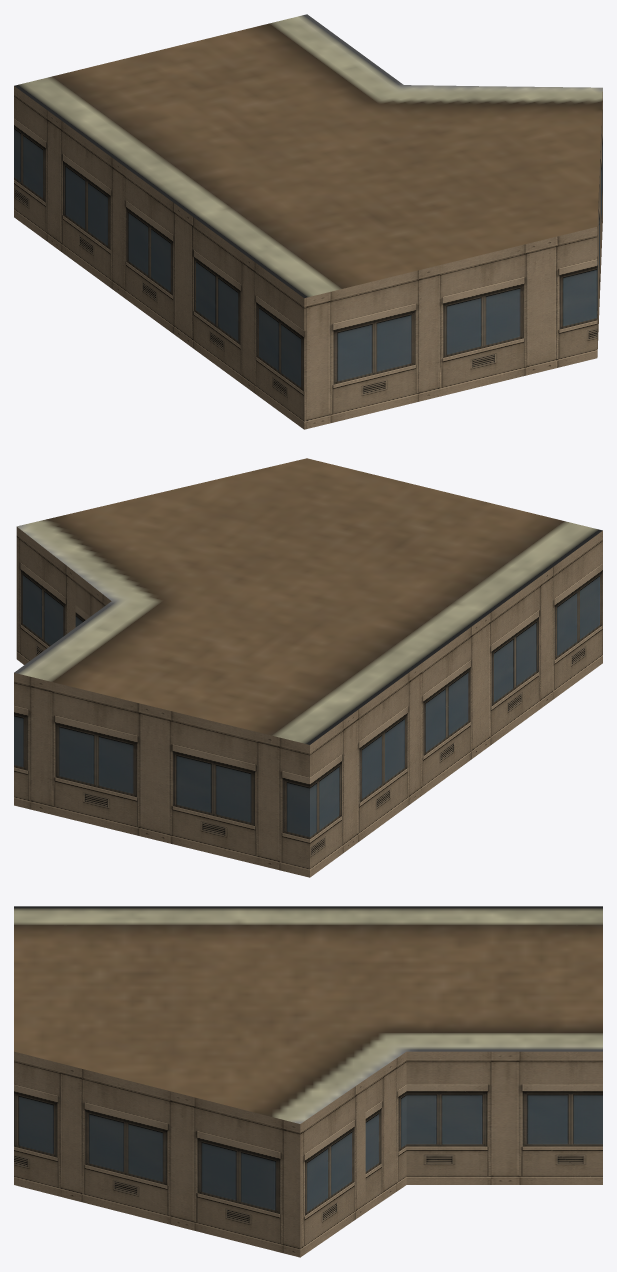
Rendered from light_roof13.glb.
3 renders of one model, top to bottom at view 1: azimuth 30°, elevation 25°; view 2: azimuth 150°, elevation 25°; view 3: azimuth 270°, elevation 25°, orthographic.
Visible parts, largest first — view 1: buildings/saxarba/light/light_roof13; view 2: buildings/saxarba/light/light_roof13; view 3: buildings/saxarba/light/light_roof13.
Boxes of the visible parts, x1,y1,x2,y2 form: buildings/saxarba/light/light_roof13: (14,14,602,429); buildings/saxarba/light/light_roof13: (14,458,602,877); buildings/saxarba/light/light_roof13: (14,906,602,1257).
Bounding box in the file's own units: 63 × 18 × 72.
